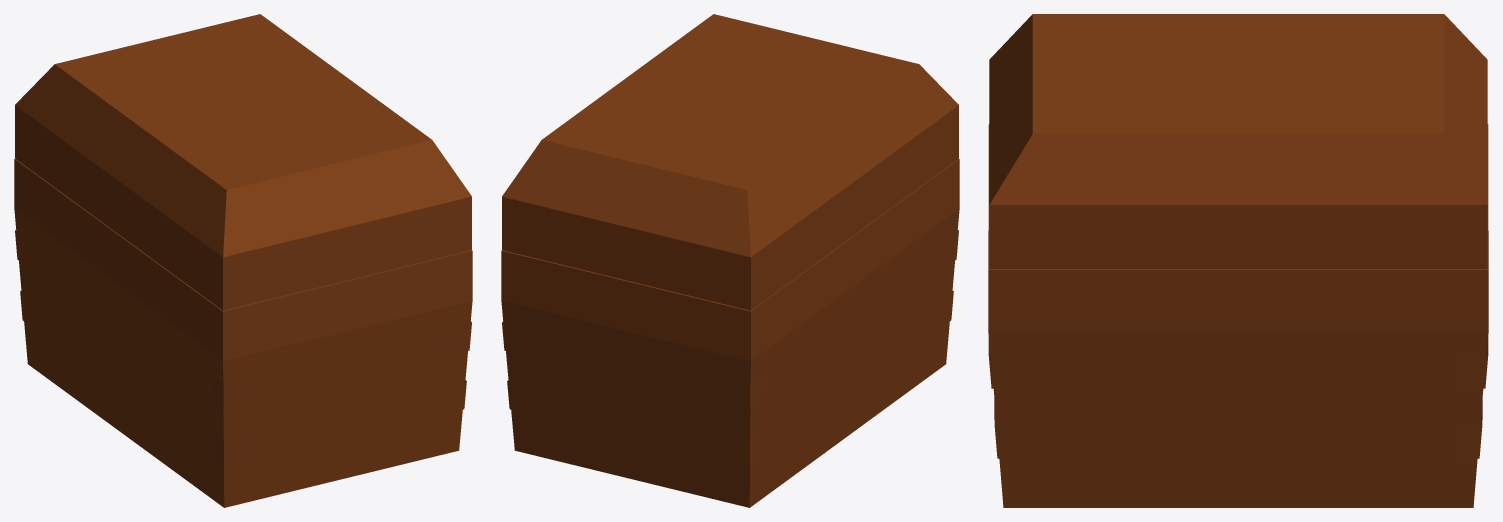
Rendered from CHEST.fbx.
The picture shows the model from 3 angles, left to right: view 1: azimuth 30°, elevation 25°; view 2: azimuth 150°, elevation 25°; view 3: azimuth 270°, elevation 25°; orthographic projection. The views are drawn at different scales.
Parts seen in each view (by area): view 1: Circle.001, Cube.001; view 2: Circle.001, Cube.001; view 3: Cube.001, Circle.001.
Boxes of the visible parts, x1=… form: Circle.001: x1=14, y1=158, x2=472, y2=507; Cube.001: x1=15, y1=14, x2=471, y2=310; Circle.001: x1=501, y1=158, x2=959, y2=507; Cube.001: x1=502, y1=14, x2=958, y2=310; Cube.001: x1=989, y1=14, x2=1487, y2=268; Circle.001: x1=988, y1=124, x2=1488, y2=507.
Size of the model in its own units: 260 by 304 by 377.
